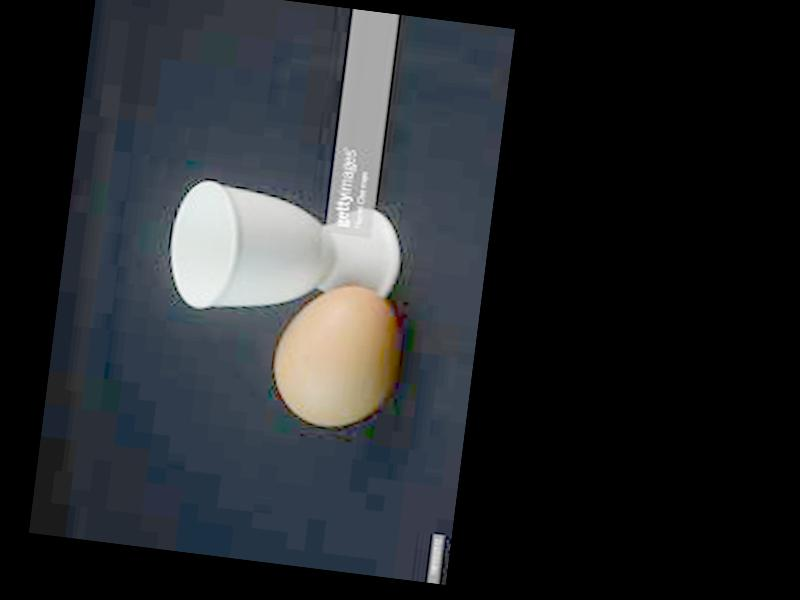Eggs: (268, 276, 399, 431)
